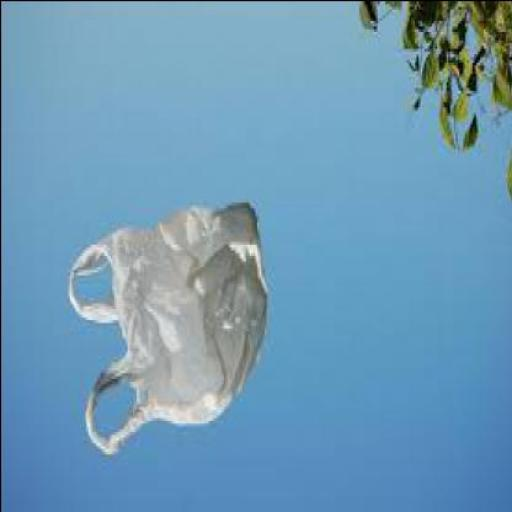plastic: (68, 204, 268, 459)
